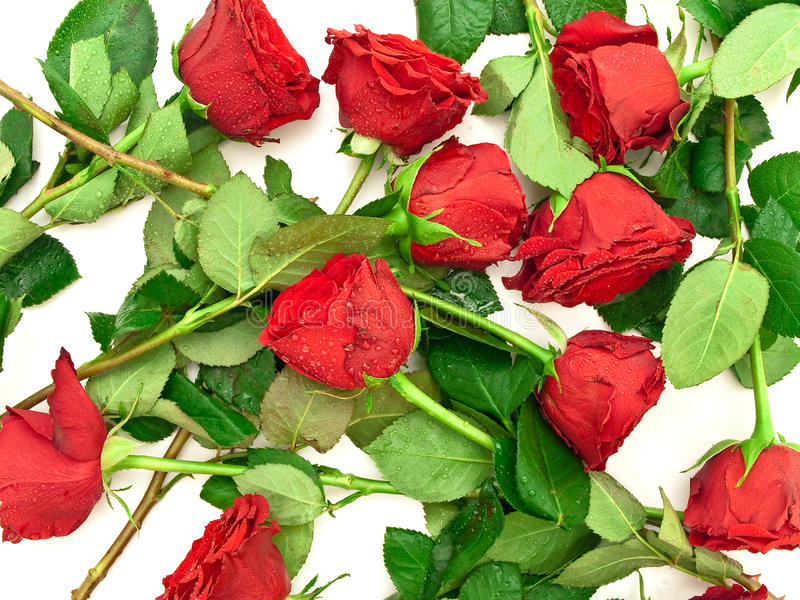RedRose: (221, 249, 425, 379), (522, 153, 684, 310), (13, 364, 126, 564), (534, 20, 688, 149), (540, 326, 681, 465), (180, 0, 320, 138), (337, 20, 477, 143), (396, 140, 519, 275), (155, 497, 302, 600), (694, 435, 800, 549)
